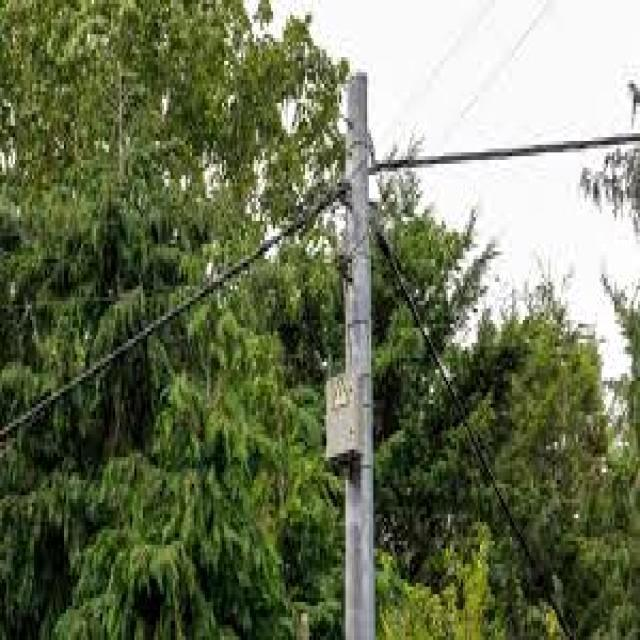critical vegetation: (210, 41, 542, 486)
